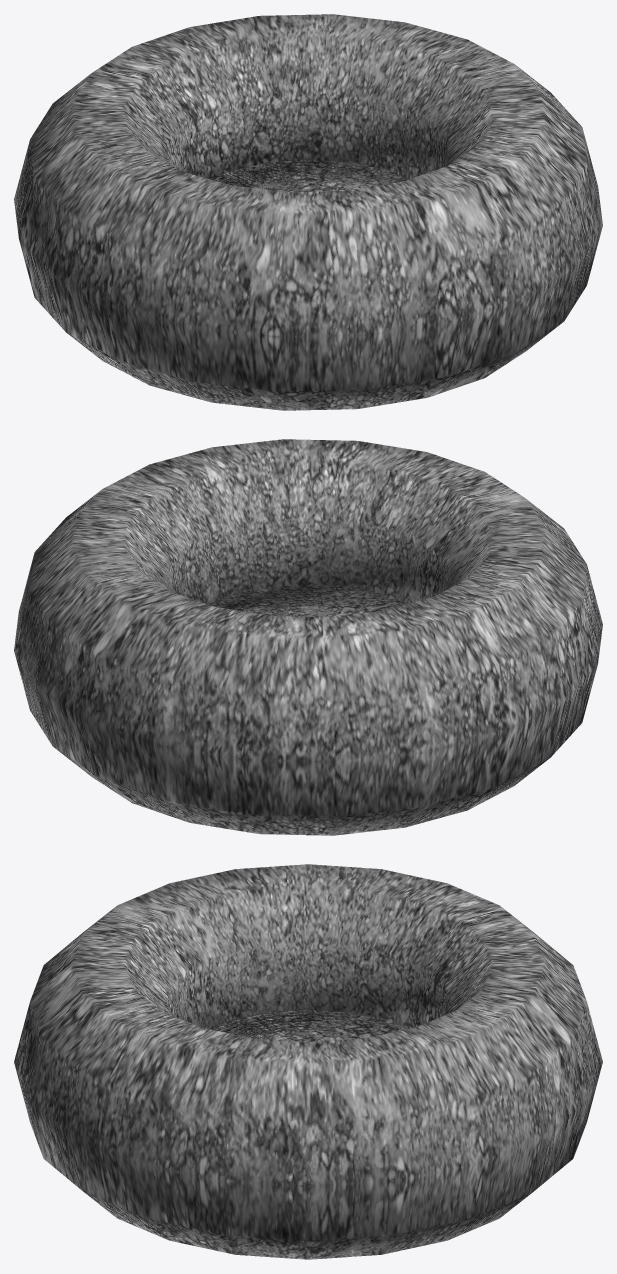
File: wheel.fbx
3 views of the same model, one above another, from view 1: azimuth 30°, elevation 25°; view 2: azimuth 150°, elevation 25°; view 3: azimuth 270°, elevation 25° (orthographic).
Parts seen in each view (by area): view 1: wheel; view 2: wheel; view 3: wheel.
Part boxes in pixels (x1,y1,x2,y2): wheel: (14, 14, 602, 410); wheel: (14, 439, 602, 835); wheel: (14, 864, 602, 1259).
Bounding box in the file's own units: 2 × 0.7324 × 2.
